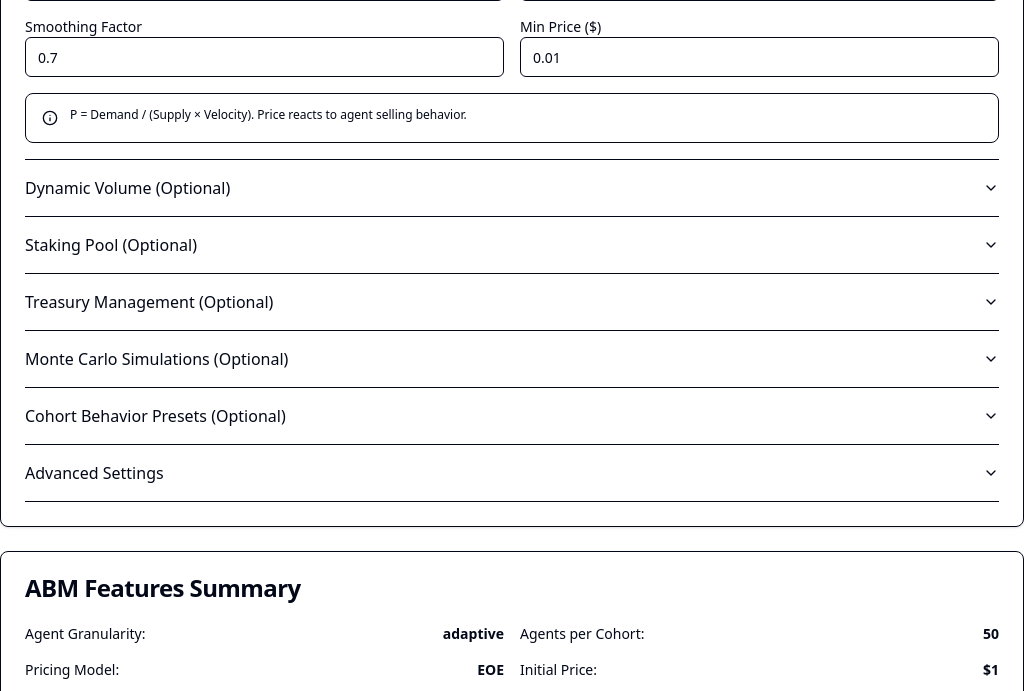
ABM Configuration Form - User Interactions › Monte Carlo Configuration › updates number of trials via slider
This screenshot has width=1024, height=691.
(page scrolled)
// Click Monte Carlo accordion to expand it
Click the button "Monte Carlo Simulations (Optional)" at [157, 359], box [25,331,999,387]
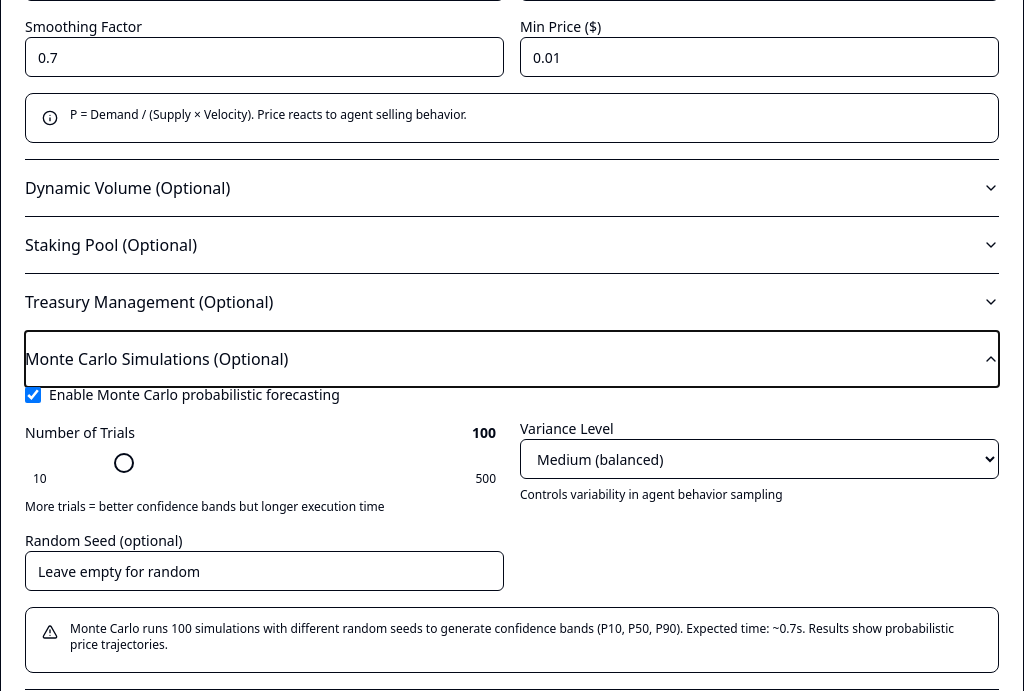
Check: the text with test id "monte-carlo-trials-value" reads "100", box [472,423,496,442]
